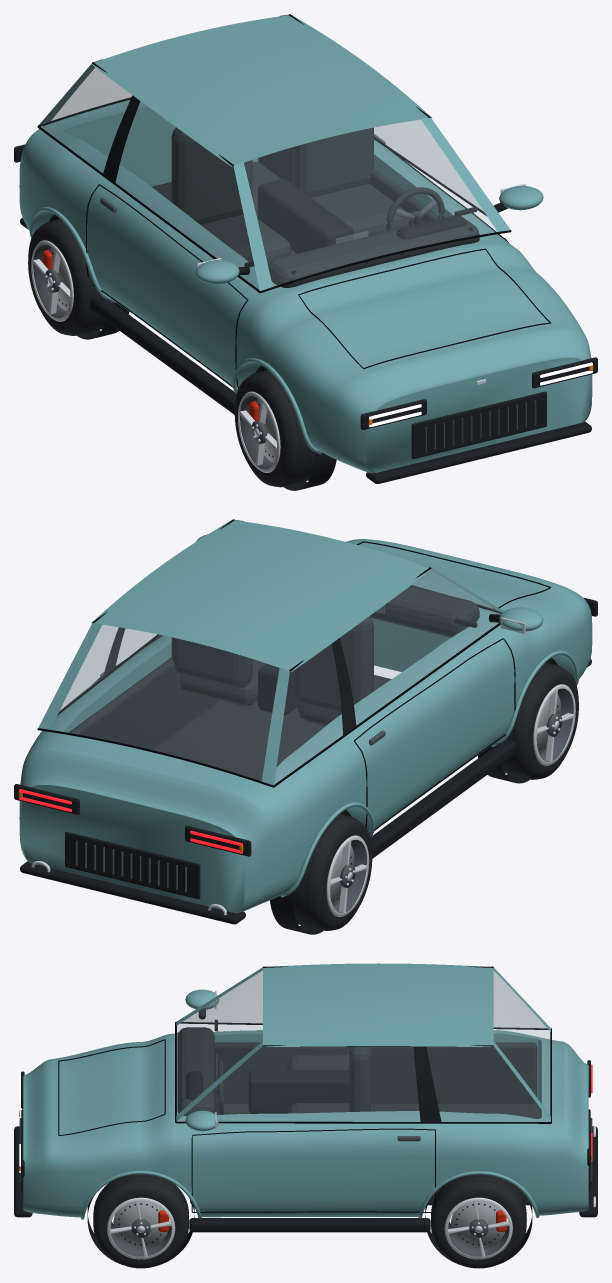
The model's file is metro.glb.
3 renders of one model, top to bottom at view 1: azimuth 30°, elevation 25°; view 2: azimuth 150°, elevation 25°; view 3: azimuth 270°, elevation 25°, orthographic. The views are drawn at different scales.
Visible parts, largest first — view 1: Sculpted body shell.006, Painted roof.006, Windshield.006, Side glass.012, Interior dashboard.006, Interior seat back.018, Front grille housing.006, Interior seat back.019, Interior centre console.006, Tire.026, Tire.024, Rocker aero sill.012 (+29 smaller); view 2: Sculpted body shell.006, Painted roof.006, Rear glass.006, Side glass.012, Interior cabin floor.006, Interior door card.013, Rear diffuser grille.006, Interior seat back.018, Tire.024, Tire.026, Interior dashboard.006, Rocker aero sill.012 (+25 smaller); view 3: Sculpted body shell.006, Side glass.013, Painted roof.006, Interior door card.012, Windshield.006, Rear glass.006, Tire.027, Tire.025, Interior centre console.006, Rocker aero sill.013, Side glass.012, Interior dashboard.006 (+24 smaller).
Part boxes in pixels (x1,y1,x2,y2): Sculpted body shell.006: (19, 100, 592, 473); Painted roof.006: (99, 16, 423, 163); Windshield.006: (244, 120, 496, 286); Side glass.012: (39, 65, 258, 289); Interior dashboard.006: (268, 216, 479, 287); Interior seat back.018: (171, 127, 252, 224); Front grille housing.006: (411, 391, 546, 458); Interior seat back.019: (293, 127, 373, 197); Interior centre console.006: (258, 179, 353, 253); Tire.026: (234, 370, 314, 487); Tire.024: (28, 219, 105, 335); Rocker aero sill.012: (90, 295, 236, 414); Sculpted body shell.006: (19, 539, 592, 913); Painted roof.006: (100, 521, 424, 668); Rear glass.006: (51, 625, 278, 780); Side glass.012: (274, 570, 502, 784); Interior cabin floor.006: (151, 675, 391, 780); Interior door card.013: (68, 657, 219, 751); Rear diffuser grille.006: (65, 831, 200, 899); Interior seat back.018: (293, 616, 373, 713); Tire.024: (292, 814, 372, 930); Tire.026: (501, 662, 578, 779); Interior dashboard.006: (369, 586, 479, 637); Rocker aero sill.012: (370, 739, 516, 858); Sculpted body shell.006: (23, 1030, 588, 1217); Side glass.013: (178, 1047, 549, 1121); Painted roof.006: (263, 964, 493, 1045); Interior door card.012: (214, 1042, 537, 1104); Windshield.006: (177, 971, 262, 1114); Rear glass.006: (494, 971, 550, 1114); Tire.027: (93, 1174, 189, 1268); Tire.025: (430, 1174, 526, 1268); Interior centre console.006: (248, 1070, 349, 1113); Rocker aero sill.013: (189, 1218, 430, 1232); Side glass.012: (184, 971, 545, 1027); Interior dashboard.006: (177, 1027, 214, 1115).
Bounding box in the file's own units: 2.09 × 1.55 × 3.77.
